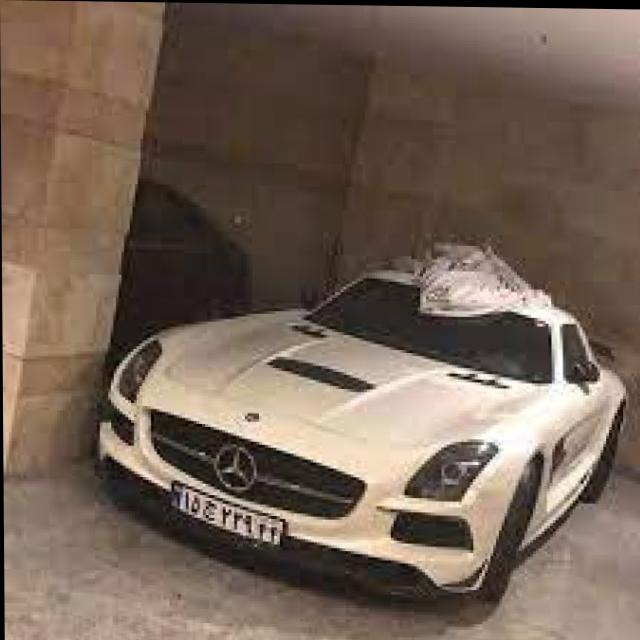licence: (168, 477, 282, 549)
